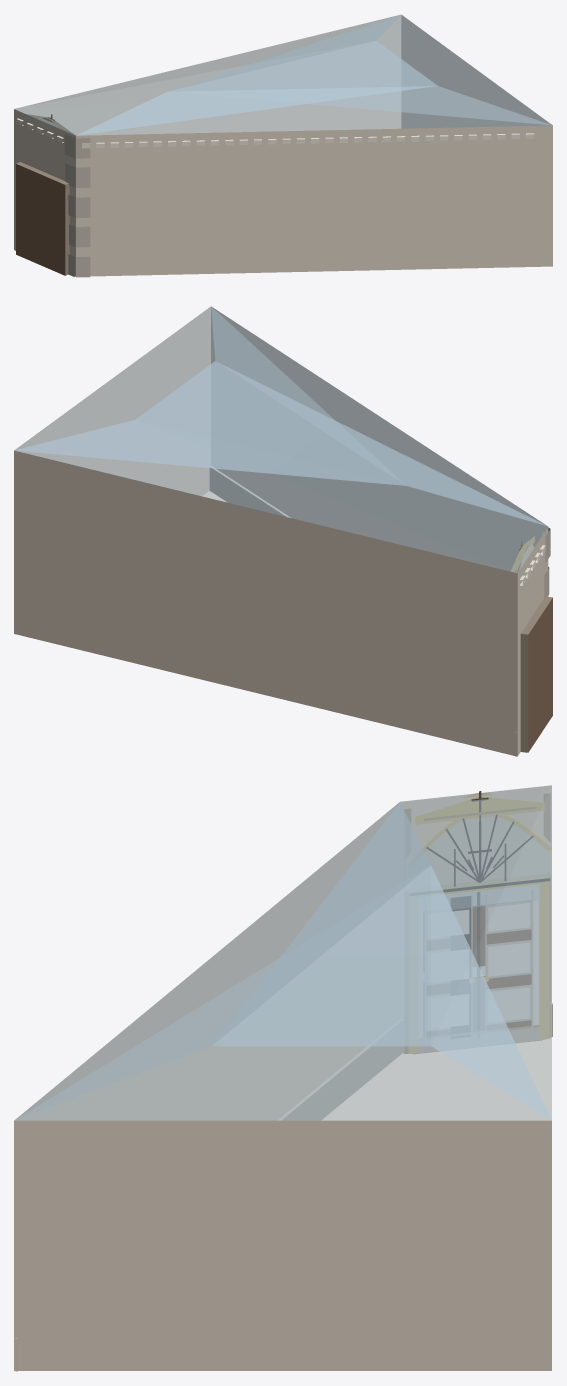
File: W-39-1.camli_vitre_passage.glb
3 views of the same model, one above another, from view 1: azimuth 30°, elevation 25°; view 2: azimuth 150°, elevation 25°; view 3: azimuth 270°, elevation 25° (orthographic). The views are drawn at different scales.
Parts seen in each view (by area): view 1: W-39-1.camli_vitre_passage; view 2: W-39-1.camli_vitre_passage; view 3: W-39-1.camli_vitre_passage.
Part boxes in pixels (x1,y1,x2,y2): W-39-1.camli_vitre_passage: (14, 14, 552, 277); W-39-1.camli_vitre_passage: (14, 306, 552, 756); W-39-1.camli_vitre_passage: (14, 785, 552, 1371).
Bounding box in the file's own units: 11.03 × 4.15 × 7.42.
